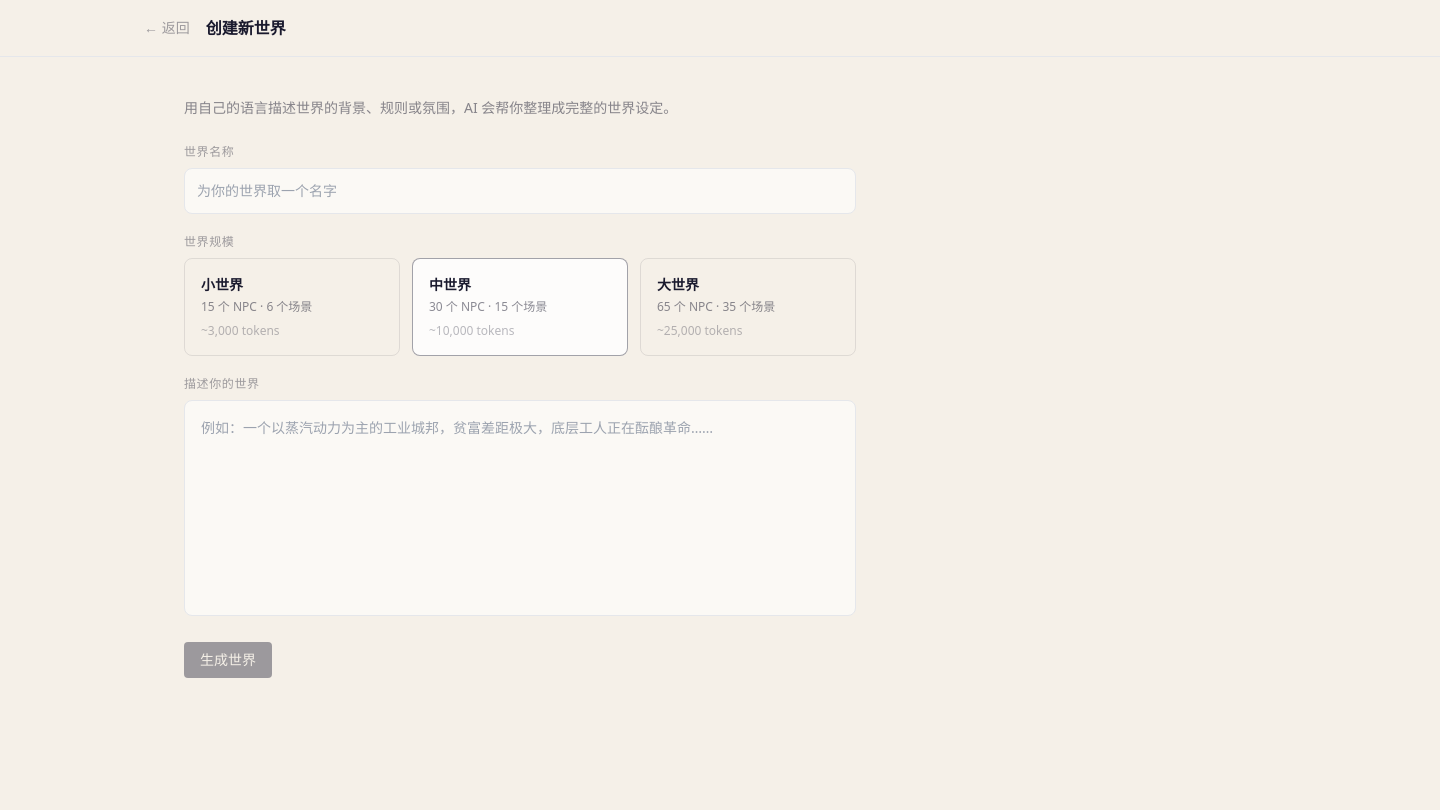
Test: shows draft sections after generation
In the text box with placeholder "例如：一个以蒸汽动力为主的工业城邦，贫富差距极大，底层工人正在酝酿革命……": x=520, y=508 [184,400,856,616], type "一个工业蒸汽城市"
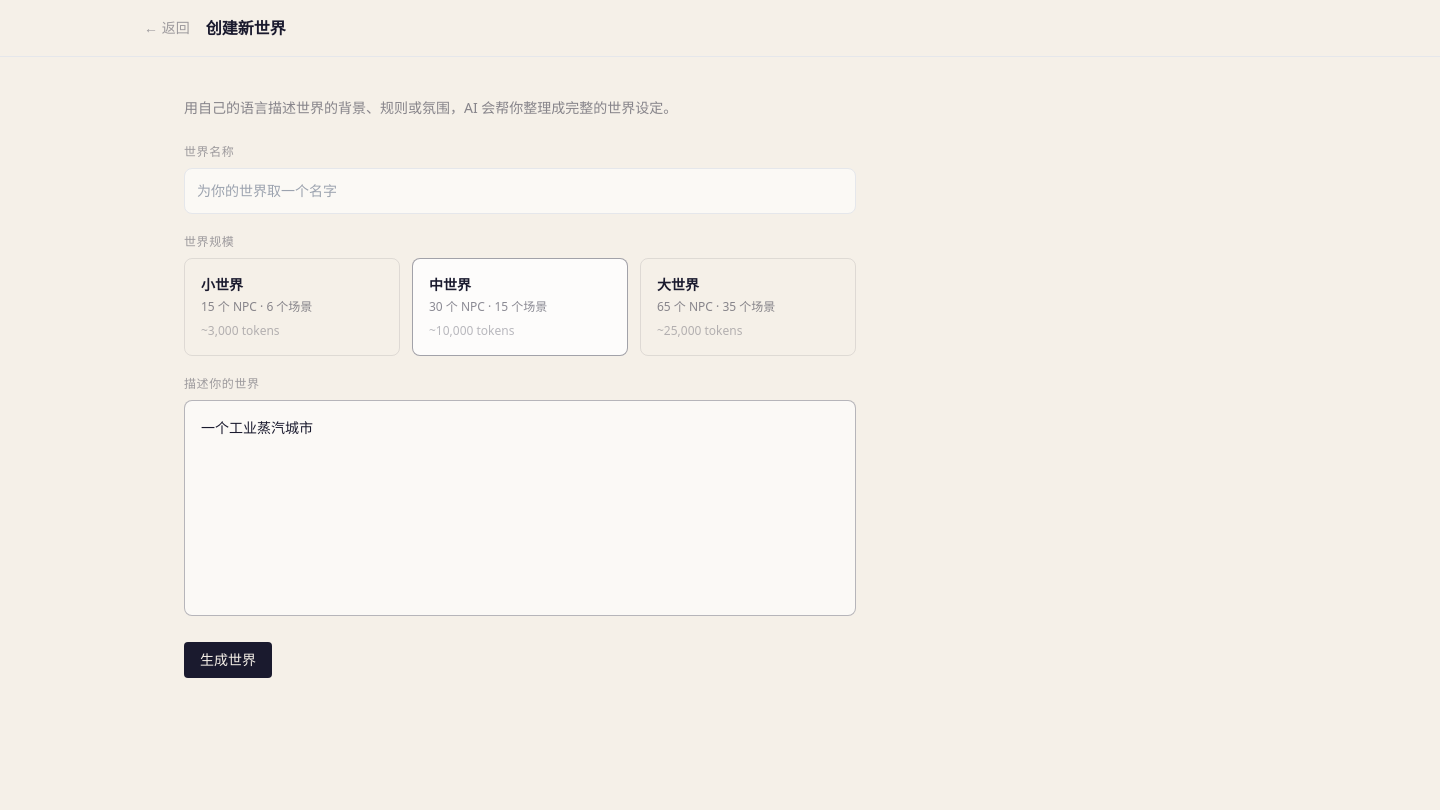
Click the button "生成世界": x=228, y=660 [184,642,272,678]
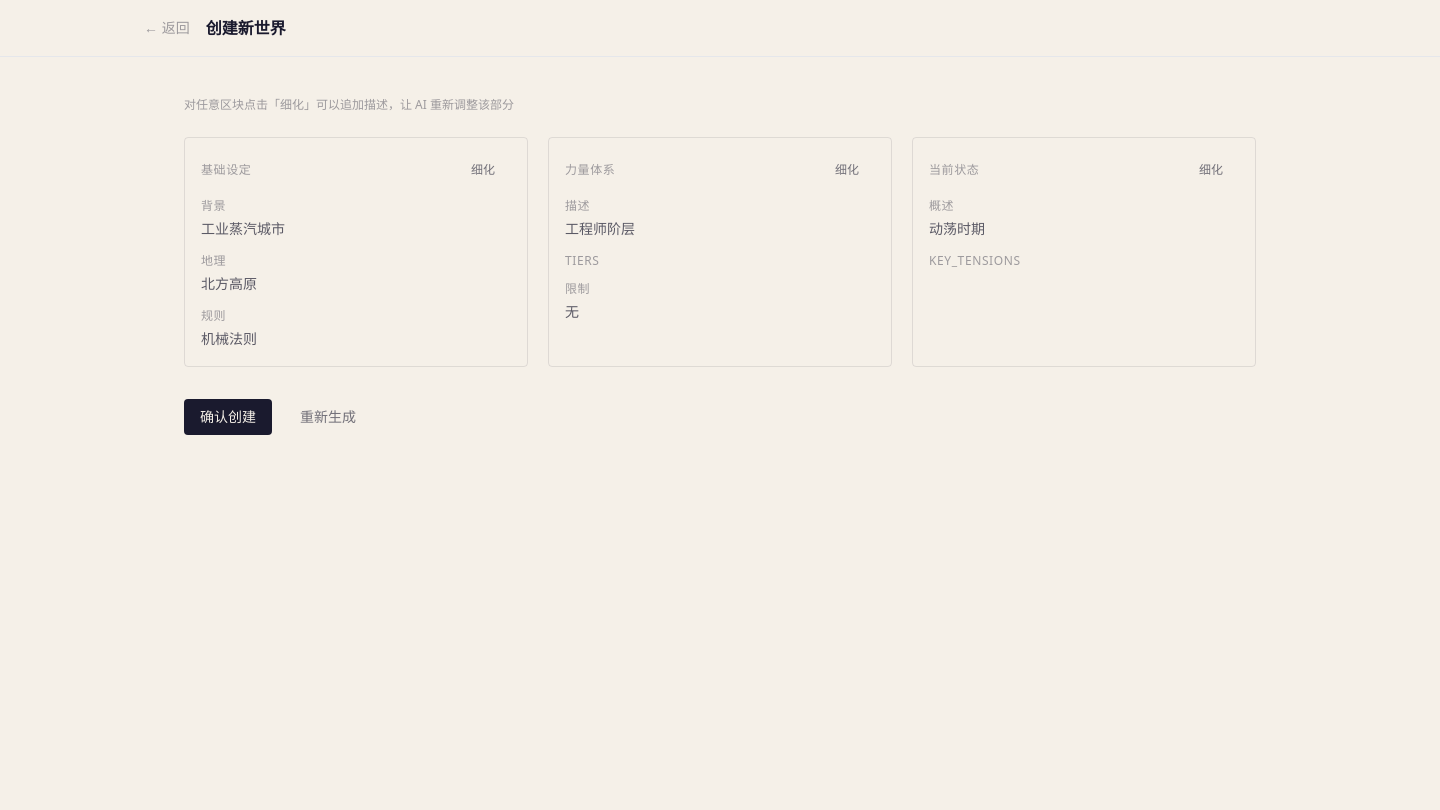
Expected: the heading "基础设定" is shown, [201,162,251,178]
Expected: the heading "力量体系" is shown, [565,162,615,178]
Expected: the heading "当前状态" is shown, [929,162,979,178]
